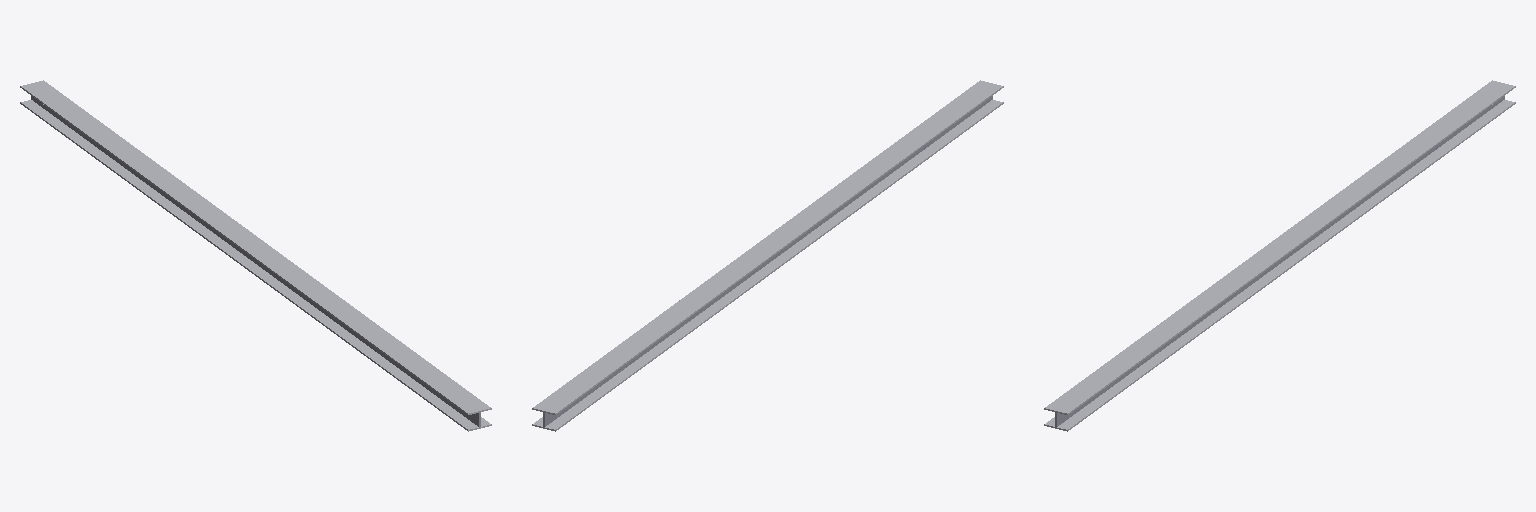
robot.urdf — h_bar:
<?xml version="1.0" ?>
<!-- =================================================================================== -->
<!-- |    This document was autogenerated by xacro from h_bar.xacro                    | -->
<!-- |    EDITING THIS FILE BY HAND IS NOT RECOMMENDED                                 | -->
<!-- =================================================================================== -->
<robot name="h_bar">
  <link name="world"/>
  <!-- Bottom leg (aligned with z-axis after rotation, below origin) -->
  <link name="hbar_bottom_leg">
    <visual>
      <origin rpy="0 1.57079633 0" xyz="0 0 0"/>
      <geometry>
        <!-- thickness x, profile width y, leg length along local z -->
        <box size="0.01 5.0 0.15"/>
      </geometry>
      <material name="hbar_material_bottom">
        <!-- Brushed steel-like gray -->
        <color rgba="0.75 0.75 0.78 1.0"/>
      </material>
    </visual>
    <collision>
      <origin rpy="0 1.57079633 0" xyz="0 0 0"/>
      <geometry>
        <box size="0.01 5.0 0.15"/>
      </geometry>
    </collision>
    <inertial>
      <origin rpy="0 0 0" xyz="0 0 0"/>
      <mass value="0.3333333333333333"/>
      <inertia ixx="0.6950694444444444" ixy="0.0" ixz="0.0" iyy="0.0006277777777777777" iyz="0.0" izz="0.6944472222222222"/>
    </inertial>
  </link>
  <!-- Top leg (aligned with z-axis after rotation, above origin) -->
  <link name="hbar_top_leg">
    <visual>
      <origin rpy="0 1.57079633 0" xyz="0 0 0"/>
      <geometry>
        <box size="0.01 5.0 0.15"/>
      </geometry>
      <material name="hbar_material_top">
        <!-- Brushed steel-like gray -->
        <color rgba="0.75 0.75 0.78 1.0"/>
      </material>
    </visual>
    <collision>
      <origin rpy="0 1.57079633 0" xyz="0 0 0"/>
      <geometry>
        <box size="0.01 5.0 0.15"/>
      </geometry>
    </collision>
    <inertial>
      <origin rpy="0 0 0" xyz="0 0 0"/>
      <mass value="0.3333333333333333"/>
      <inertia ixx="0.6950694444444444" ixy="0.0" ixz="0.0" iyy="0.0006277777777777777" iyz="0.0" izz="0.6944472222222222"/>
    </inertial>
  </link>
  <!-- Crossbar: vertical (aligned with z-axis) at the origin -->
  <link name="hbar_crossbar">
    <visual>
      <!-- Thickness in x,y, length in z -->
      <origin rpy="0 0 0" xyz="0 0 0"/>
      <geometry>
        <box size="0.01 5.0 0.1"/>
      </geometry>
      <material name="hbar_material_cross">
        <!-- Slightly darker steel for visual contrast -->
        <color rgba="0.65 0.65 0.7 1.0"/>
      </material>
    </visual>
    <collision>
      <origin rpy="0 0 0" xyz="0 0 0"/>
      <geometry>
        <box size="0.01 5.0 0.1"/>
      </geometry>
    </collision>
    <inertial>
      <origin rpy="0 0 0" xyz="0 0 0"/>
      <mass value="0.3333333333333333"/>
      <inertia ixx="0.6947222222222222" ixy="0.0" ixz="0.0" iyy="0.0002805555555555556" iyz="0.0" izz="0.6944472222222222"/>
    </inertial>
  </link>
  <!-- Fix crossbar to world; its center is at the macro pose -->
  <joint name="hbar_cross_fix" type="fixed">
    <parent link="world"/>
    <child link="hbar_crossbar"/>
    <origin rpy="0 0 0" xyz="0 0 0"/>
  </joint>
  <!-- Top leg: translated +L_leg/2 in x and +L_span/2 in z relative to crossbar -->
  <joint name="hbar_top_fix" type="fixed">
    <parent link="hbar_crossbar"/>
    <child link="hbar_top_leg"/>
    <origin rpy="0 0.0 0" xyz="0 0 0.05"/>
  </joint>
  <!-- Bottom leg: translated +L_leg/2 in x and -L_span/2 in z relative to crossbar -->
  <joint name="hbar_bottom_fix" type="fixed">
    <parent link="hbar_crossbar"/>
    <child link="hbar_bottom_leg"/>
    <origin rpy="0 0 0" xyz="0 0 -0.05"/>
  </joint>
</robot>

--- Facts derived from the render (not from the file) ---
Views: 3 orthographic renders of the robot side by side, from view 1: azimuth 30°, elevation 25°; view 2: azimuth 150°, elevation 25°; view 3: azimuth 330°, elevation 25°.
Model h_bar with 4 links and 3 joints (3 fixed), rooted at world, posed every joint at zero.
Visible links, largest first — view 1: hbar_top_leg, hbar_bottom_leg, hbar_crossbar; view 2: hbar_top_leg, hbar_bottom_leg, hbar_crossbar; view 3: hbar_top_leg, hbar_bottom_leg, hbar_crossbar.
Boxes of the visible links, bbox=[...] form: hbar_top_leg: bbox=[20, 80, 491, 414]; hbar_bottom_leg: bbox=[20, 100, 491, 431]; hbar_crossbar: bbox=[31, 96, 480, 427]; hbar_top_leg: bbox=[532, 80, 1003, 414]; hbar_bottom_leg: bbox=[532, 100, 1003, 431]; hbar_crossbar: bbox=[543, 96, 992, 427]; hbar_top_leg: bbox=[1044, 80, 1515, 414]; hbar_bottom_leg: bbox=[1044, 100, 1515, 431]; hbar_crossbar: bbox=[1055, 96, 1504, 427].
Size in the robot's own frame: 0.15 by 5 by 0.11 metres.
Geometry: primitives only (box / cylinder / sphere), no mesh files.
